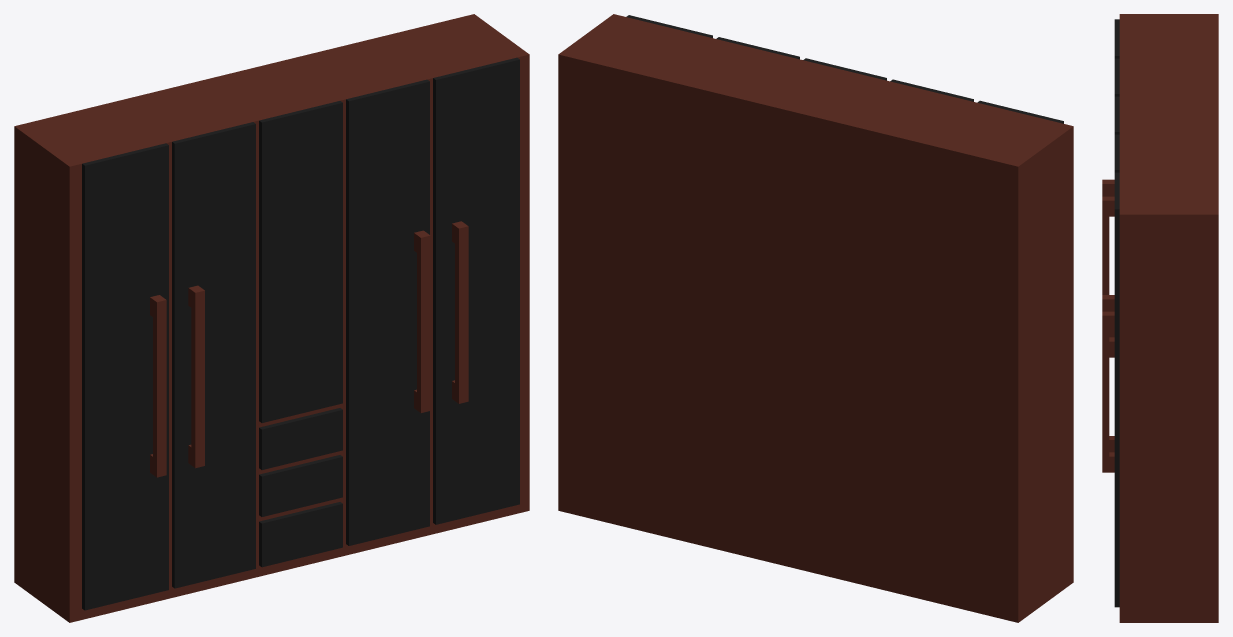
Rendered from modern wardrobe.fbx.
3 views of the same model, side by side, from view 1: azimuth 30°, elevation 25°; view 2: azimuth 150°, elevation 25°; view 3: azimuth 270°, elevation 25° (orthographic). The views are drawn at different scales.
Visible parts, largest first — view 1: modern wardrobe; view 2: modern wardrobe; view 3: modern wardrobe.
Boxes of the visible parts, box(x1,y1,x2,y2) form: modern wardrobe: box(14, 14, 529, 622); modern wardrobe: box(558, 14, 1073, 622); modern wardrobe: box(1102, 14, 1218, 622).
Size of the model in its own units: 230 by 218 by 56.35.
2 materials, 2 textured.
